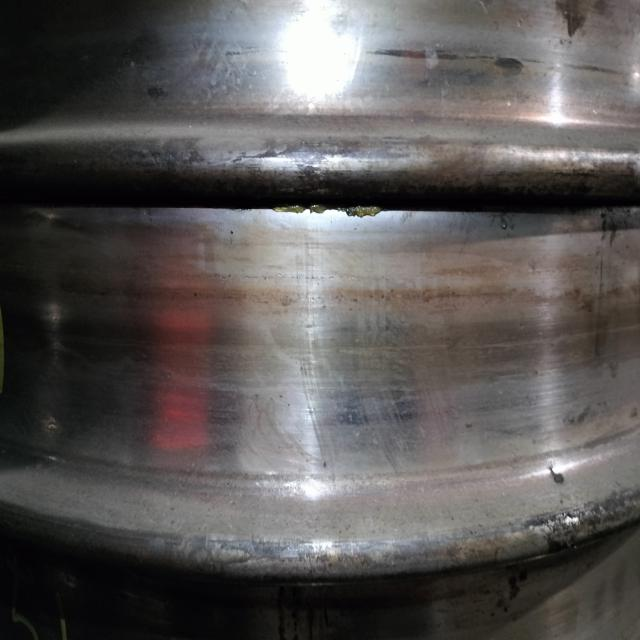Contact_Fatigue_Cracks: (166, 529, 329, 583)
Rollerpile: (528, 495, 621, 557)
